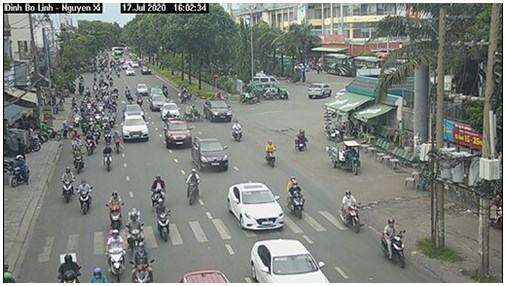xe_hoi: (248, 240, 334, 283), (226, 182, 286, 231), (190, 135, 229, 170), (119, 115, 152, 144), (162, 118, 191, 149), (202, 98, 233, 123), (306, 80, 331, 99), (119, 102, 146, 119)
xe_may: (381, 214, 411, 272), (337, 185, 363, 235), (130, 242, 155, 282), (106, 227, 125, 277), (153, 196, 173, 243), (125, 206, 145, 252), (286, 171, 305, 219), (56, 252, 81, 283), (184, 167, 201, 207), (11, 152, 29, 187), (58, 165, 74, 203), (107, 190, 123, 228), (76, 179, 92, 217), (150, 174, 166, 205), (263, 140, 277, 168), (103, 142, 114, 175), (74, 146, 84, 173)
